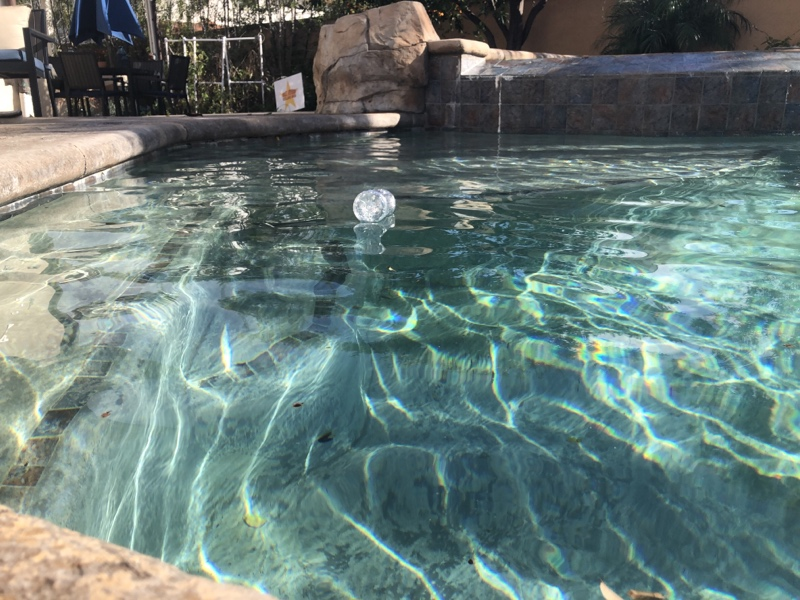Plastic Bottle: (347, 185, 400, 228)
